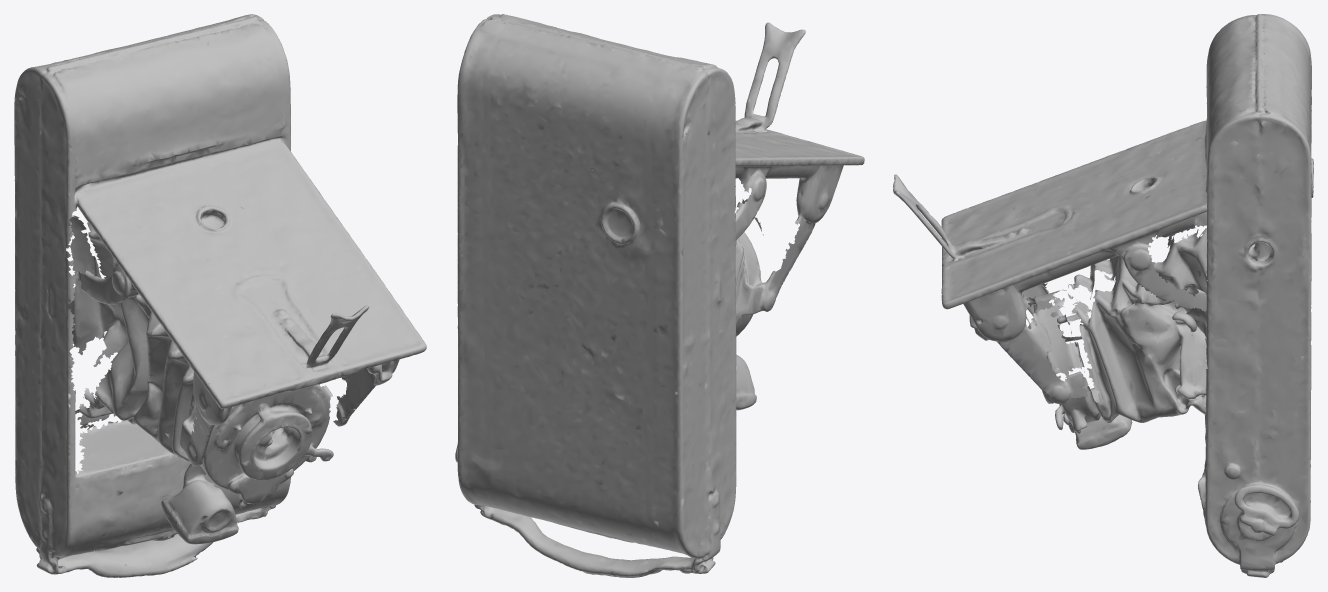
3 renders of one model, left to right at view 1: azimuth 30°, elevation 25°; view 2: azimuth 150°, elevation 25°; view 3: azimuth 270°, elevation 25°, orthographic. The views are drawn at different scales.
Visible parts, largest first — view 1: object; view 2: object; view 3: object.
Part boxes in pixels (x1,y1,x2,y2): object: (14, 14, 426, 577); object: (455, 14, 864, 577); object: (893, 14, 1313, 577).
Bounding box in the file's own units: 53.92 × 112 × 86.12.
Materials: 1 (1 with a texture image).
